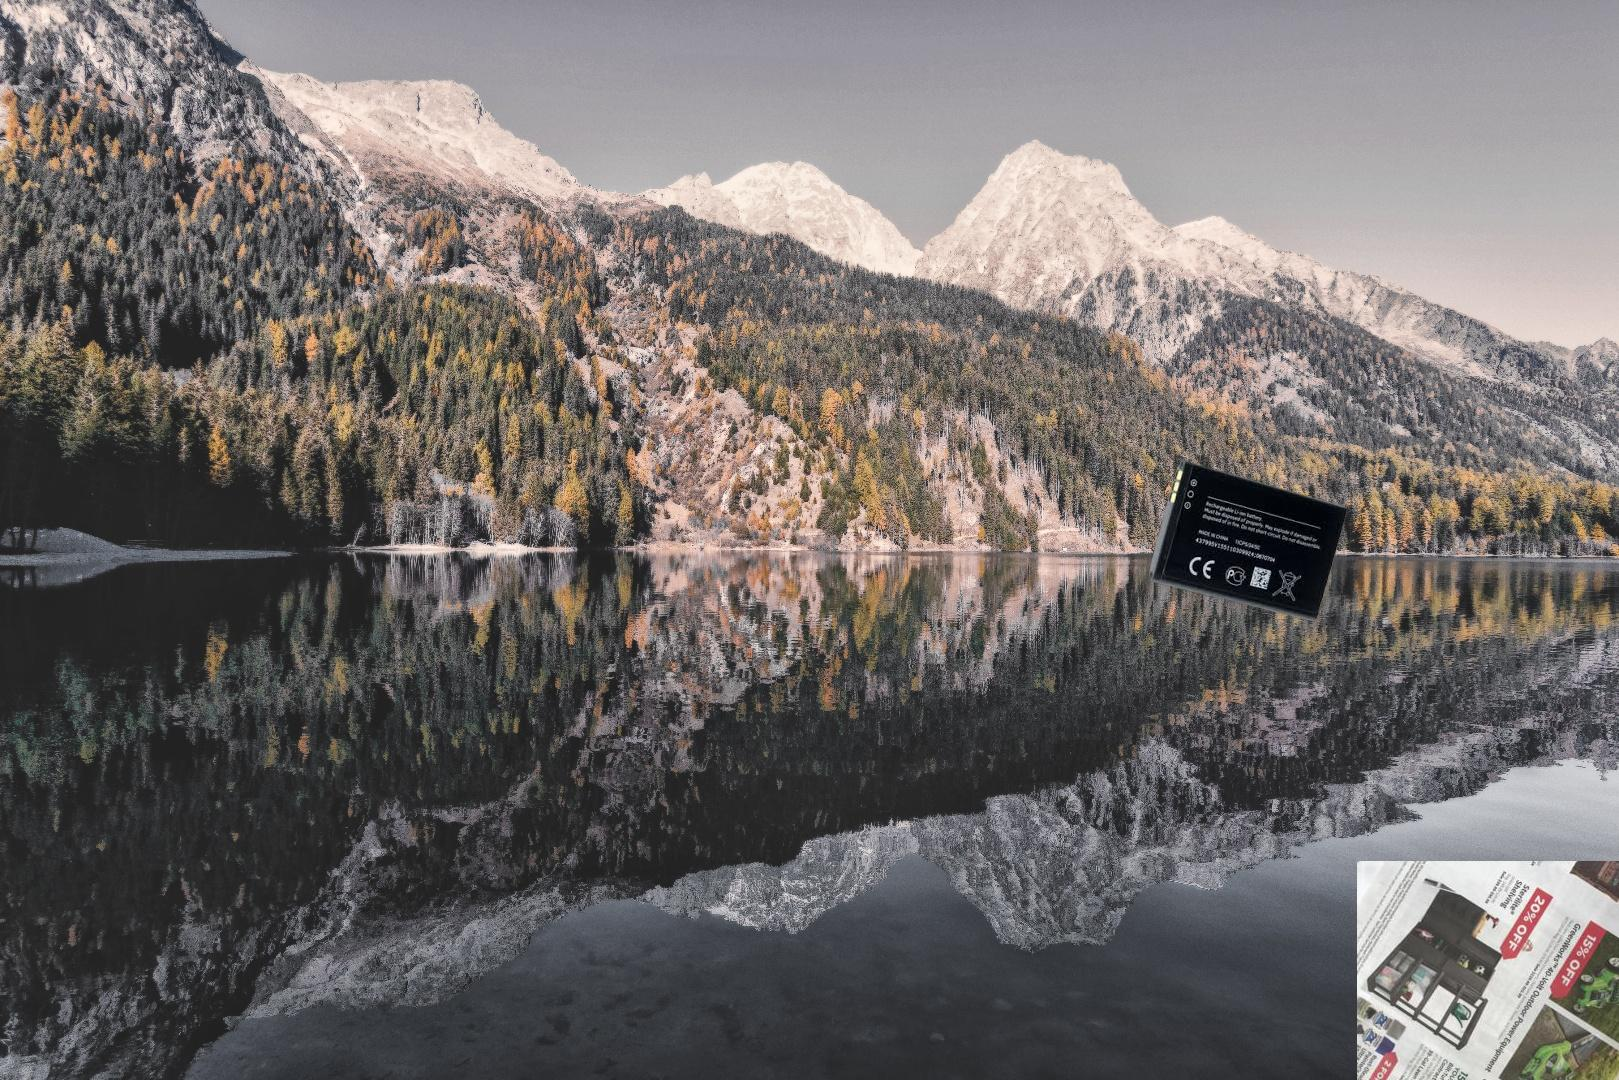battery: (1146, 456, 1350, 624)
paper: (1357, 861, 1619, 1080)
